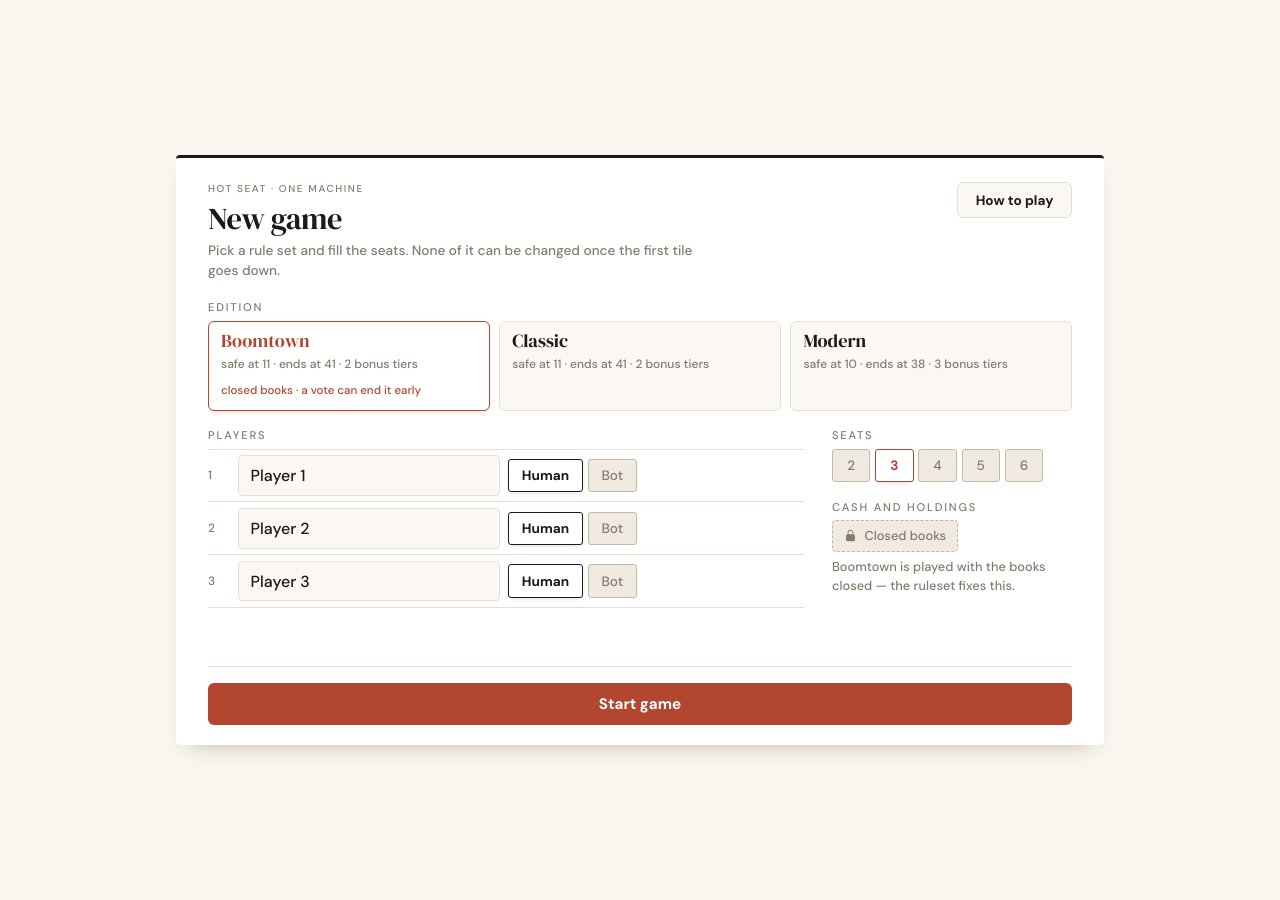
Scenario: NewGame screen › keeps the rules out of the screen until asked, then covers both rule sets
Expected: the text "A turn" is not shown
Step 1. Click the button "How to play" → click(1014, 200), box x1=957 y1=182 x2=1072 y2=218
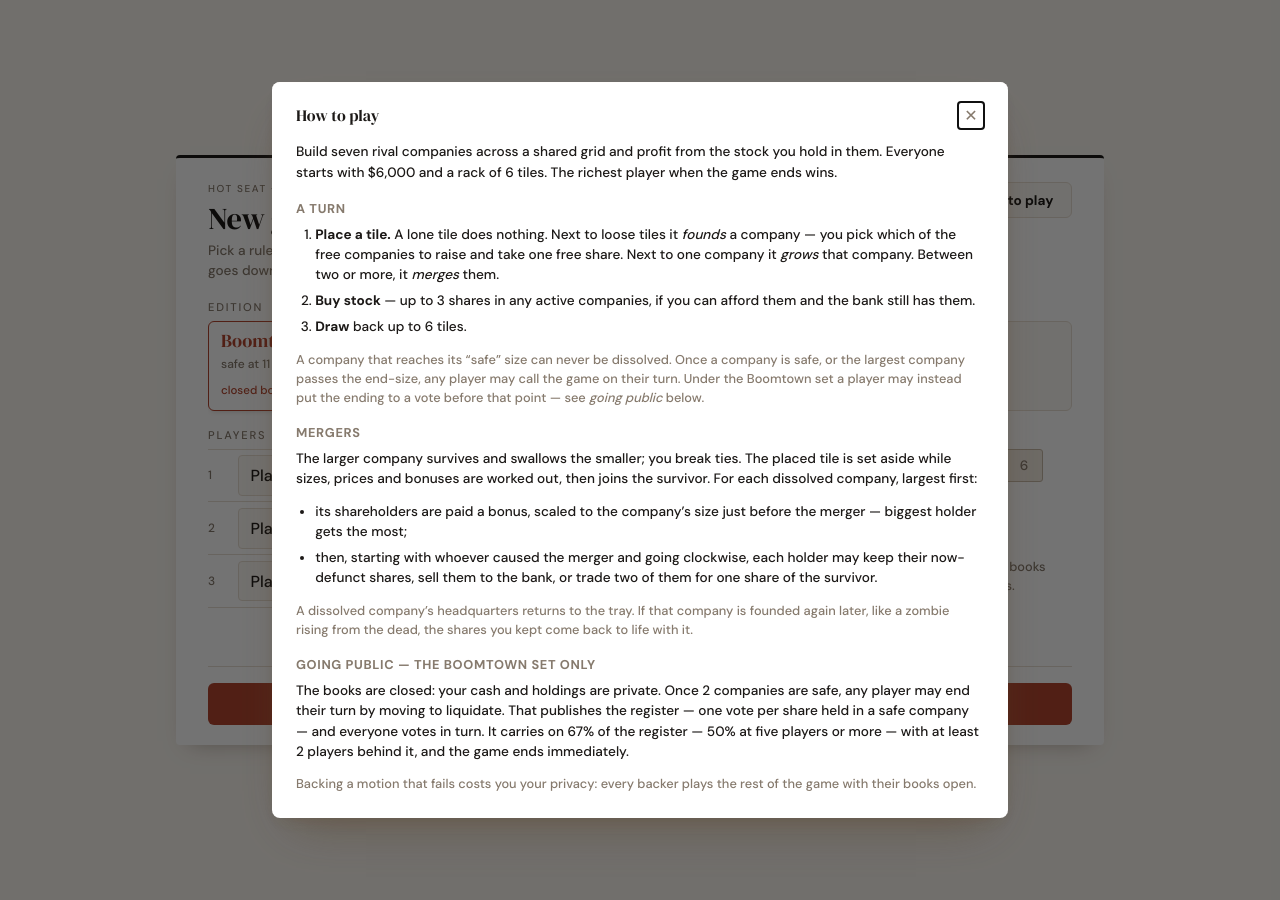
Expected: the dialog shows "A turn", x1=296 y1=200 x2=346 y2=217
